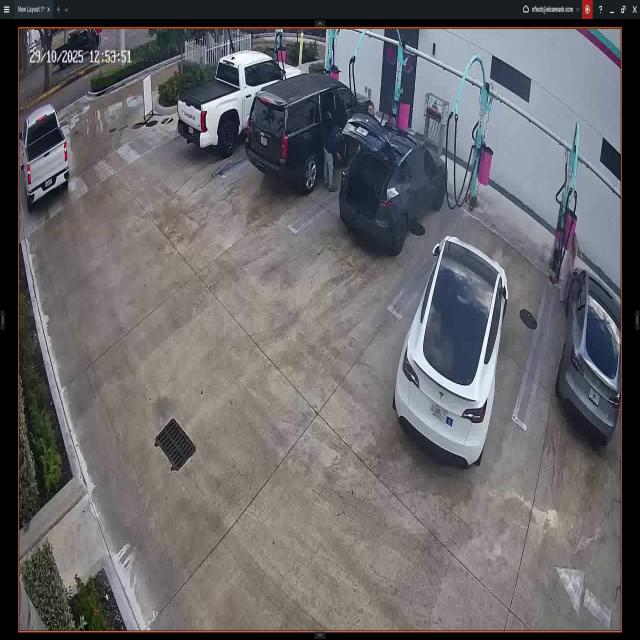Car: (392, 234, 507, 469), (340, 111, 448, 254), (247, 74, 372, 194), (180, 58, 307, 159), (558, 279, 621, 440), (18, 102, 68, 209)
